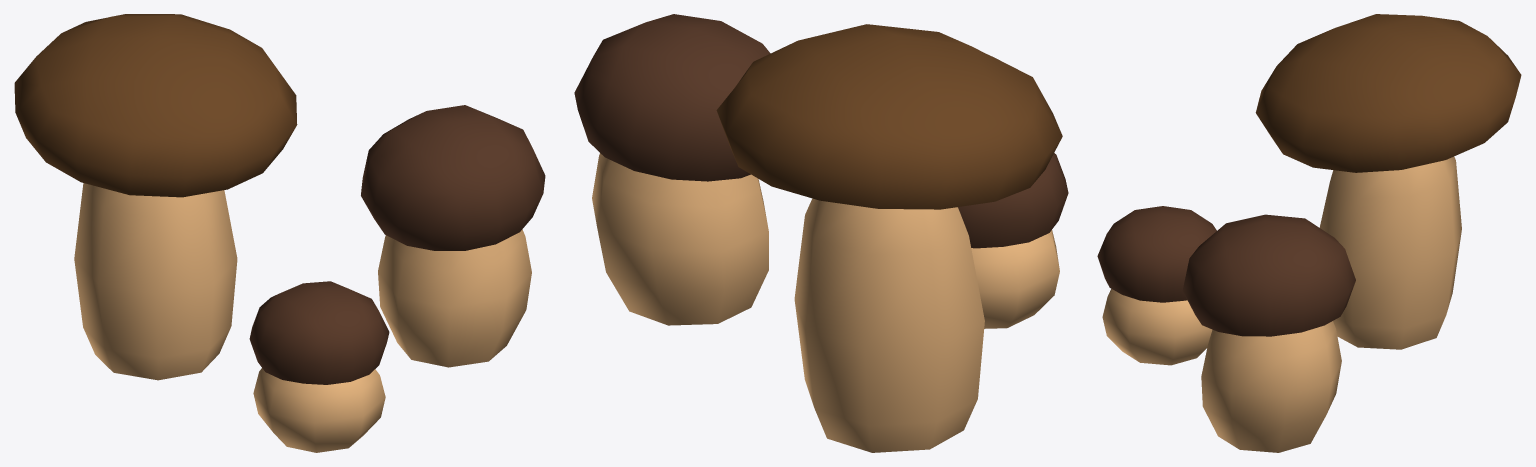
The model's file is Bay_Bolete_Group_2.glb.
3 renders of one model, left to right at view 1: azimuth 30°, elevation 25°; view 2: azimuth 150°, elevation 25°; view 3: azimuth 270°, elevation 25°, orthographic. The views are drawn at different scales.
Visible parts, largest first — view 1: Bay_Bolete_Group_2; view 2: Bay_Bolete_Group_2; view 3: Bay_Bolete_Group_2.
Part boxes in pixels (x1,y1,x2,y2): Bay_Bolete_Group_2: (14,14,545,452); Bay_Bolete_Group_2: (574,14,1068,452); Bay_Bolete_Group_2: (1097,14,1521,452).
Size of the model in its own units: 0.5101 by 0.3584 by 0.4588.
1 material, 1 textured.
